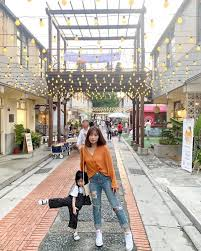people: (83, 127, 134, 251), (40, 172, 90, 240), (77, 114, 87, 152), (116, 120, 121, 140)
